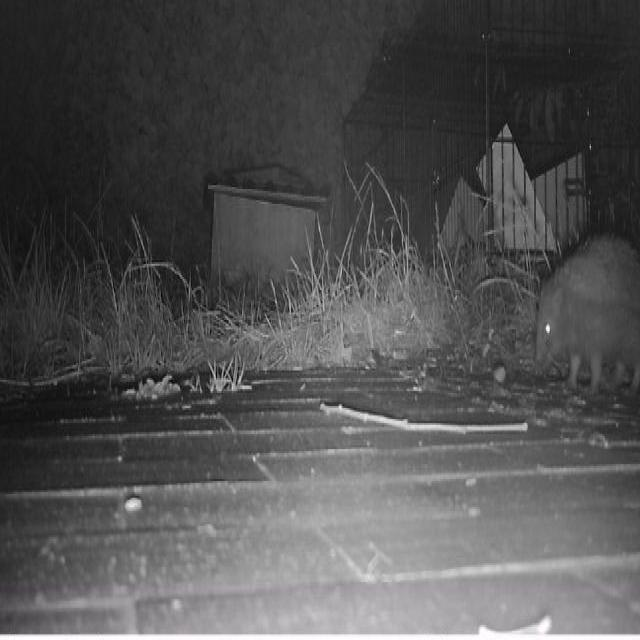Hedgehog: (523, 230, 640, 397)
